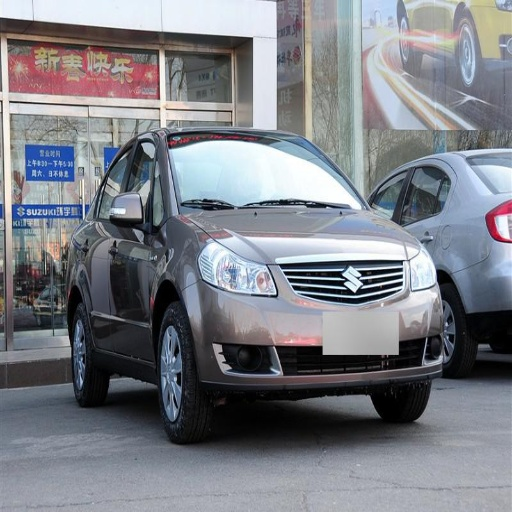back_glass: (470, 152, 511, 191)
front_bumper: (187, 259, 451, 391)
front_right_door: (114, 135, 161, 359)
front_right_light: (200, 241, 275, 295)
